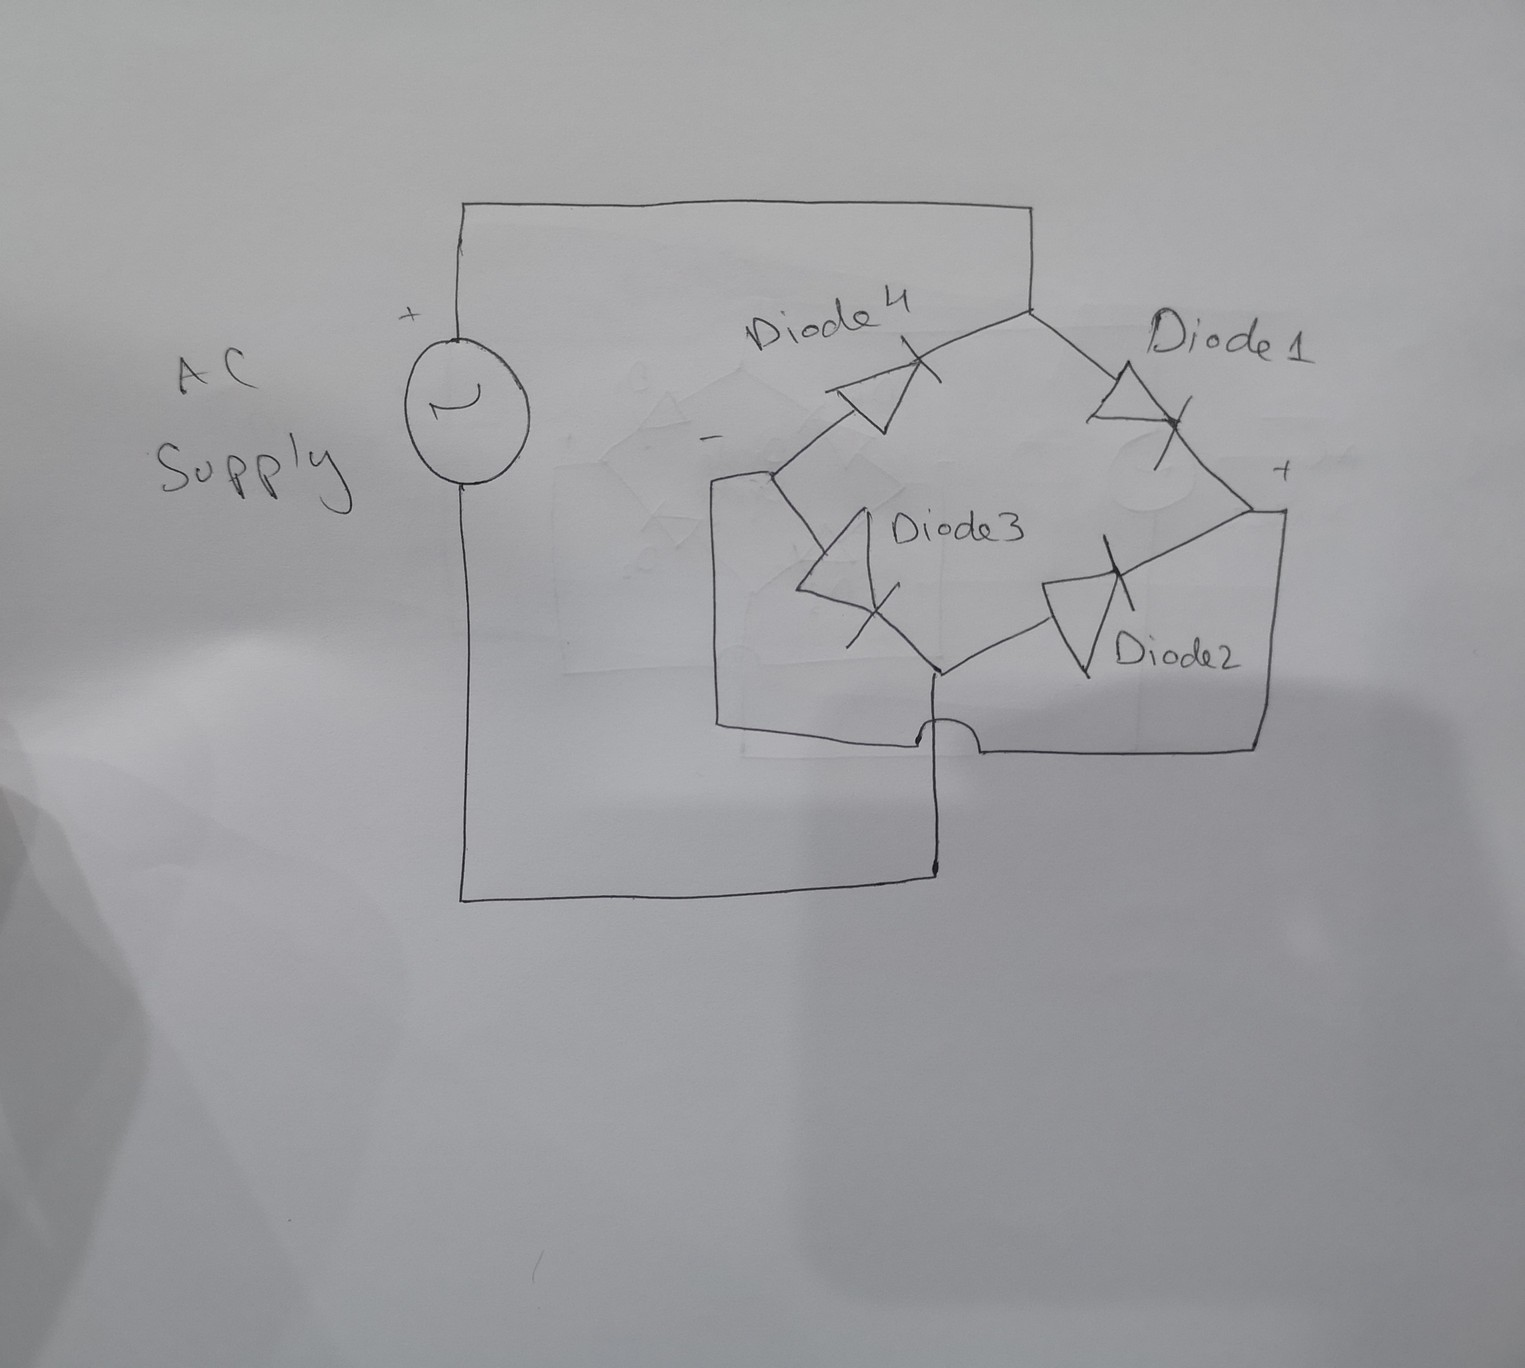crossover: (904, 712, 988, 761)
diode: (790, 502, 906, 654), (1036, 530, 1138, 683), (1080, 357, 1198, 474), (820, 333, 945, 437)
junction: (922, 655, 953, 683), (1015, 301, 1043, 327), (923, 860, 947, 887), (759, 463, 786, 487), (453, 194, 477, 217), (1240, 738, 1264, 761), (1238, 499, 1261, 520), (701, 470, 722, 490), (1021, 199, 1042, 218), (708, 716, 728, 734), (453, 891, 469, 910), (1275, 503, 1293, 518)
text: (151, 430, 350, 512), (742, 285, 912, 357), (1139, 304, 1316, 367), (886, 503, 1030, 549), (1112, 625, 1244, 672), (168, 349, 269, 401)
voltage.dc_ac: (392, 331, 540, 494)
